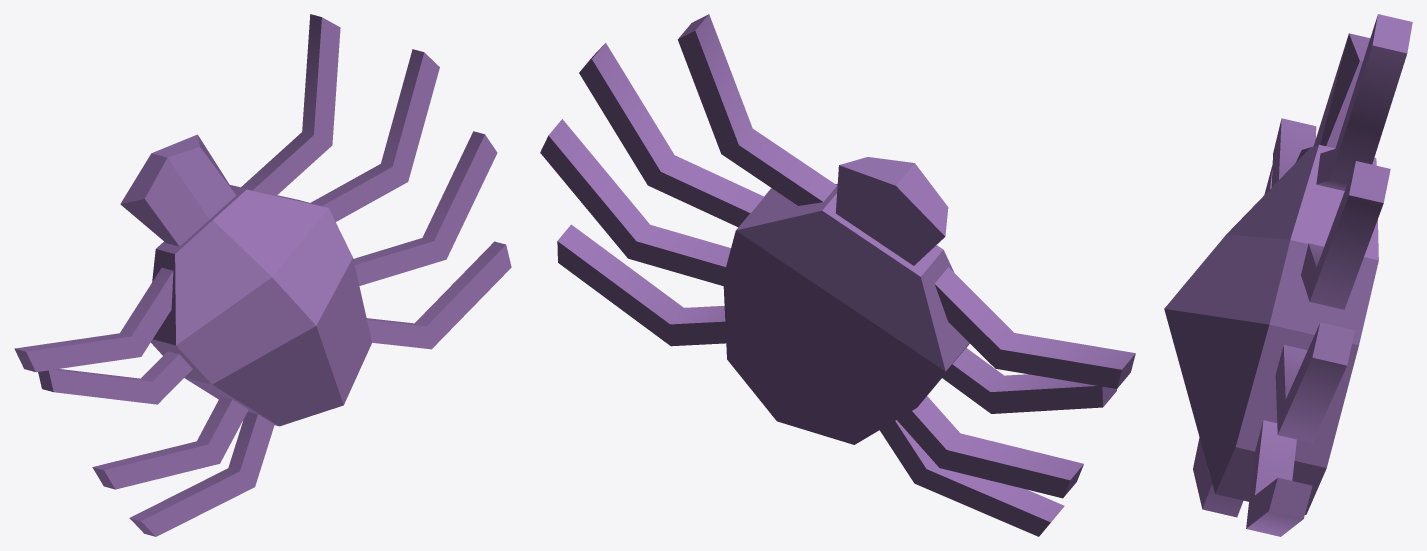
File: SM_Spider.fbx
3 renders of one model, left to right at view 1: azimuth 30°, elevation 25°; view 2: azimuth 150°, elevation 25°; view 3: azimuth 270°, elevation 25°, orthographic. The views are drawn at different scales.
Visible parts, largest first — view 1: Spider; view 2: Spider; view 3: Spider.
Part boxes in pixels (box(x1,y1,x2,y2)): Spider: box(14, 14, 511, 536); Spider: box(540, 14, 1135, 536); Spider: box(1164, 14, 1412, 536).
Bounding box in the file's own units: 10.88 × 9.14 × 3.28.
